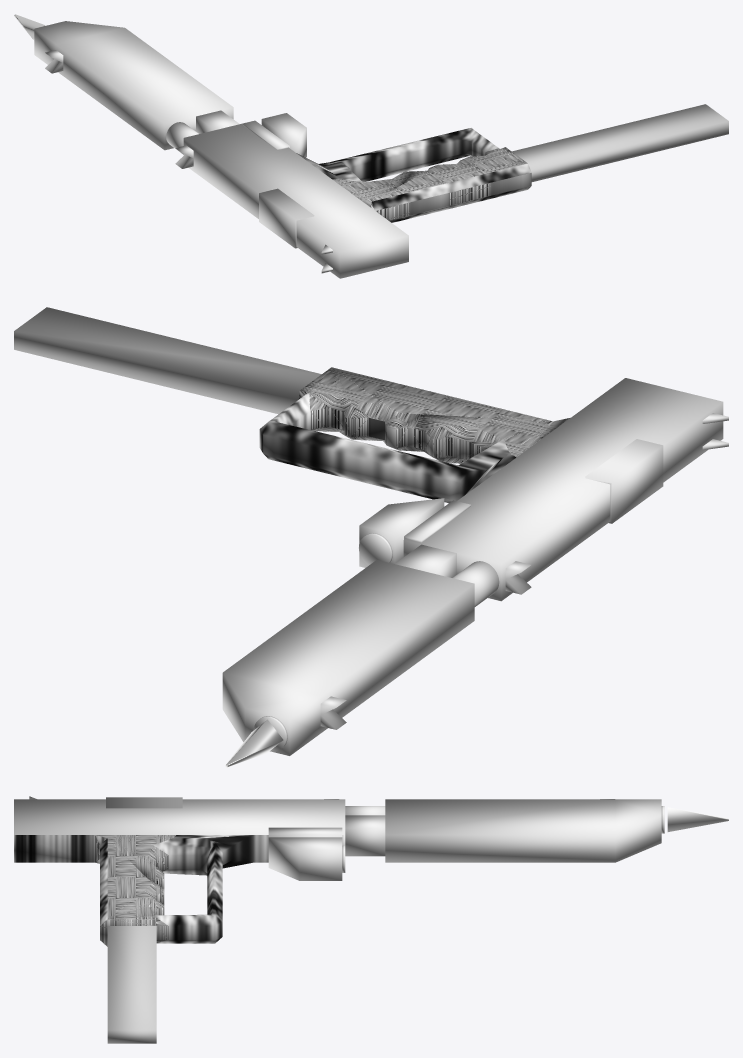
Rendered from gun_smg_x-barrel.fbx.
The picture shows the model from 3 angles, top to bottom: view 1: azimuth 30°, elevation 25°; view 2: azimuth 150°, elevation 25°; view 3: azimuth 270°, elevation 25°; orthographic projection. The views are drawn at different scales.
Parts seen in each view (by area): view 1: Gun.SMG.x_barrel; view 2: Gun.SMG.x_barrel; view 3: Gun.SMG.x_barrel.
Part boxes in pixels (left/top/right/bottom): Gun.SMG.x_barrel: left=14, top=14, right=728, bottom=278; Gun.SMG.x_barrel: left=14, top=307, right=728, bottom=767; Gun.SMG.x_barrel: left=14, top=796, right=728, bottom=1043.
Size of the model in its own units: 35.4 by 2.2 by 46.6.
